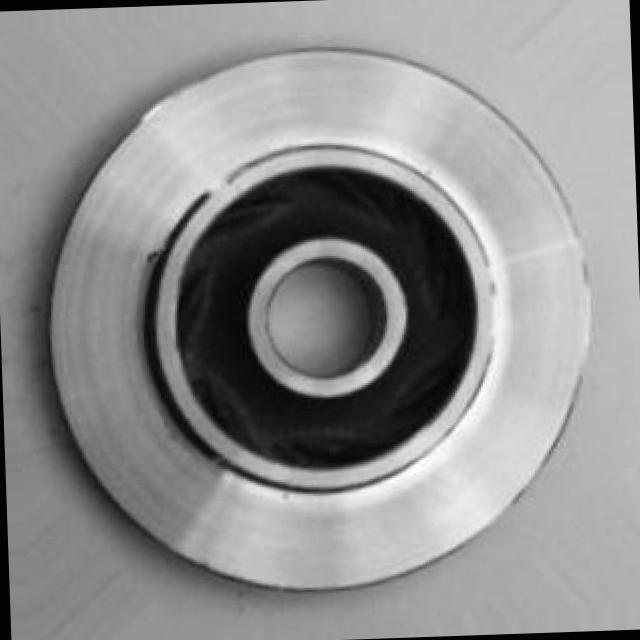Defect: (140, 238, 177, 272)
